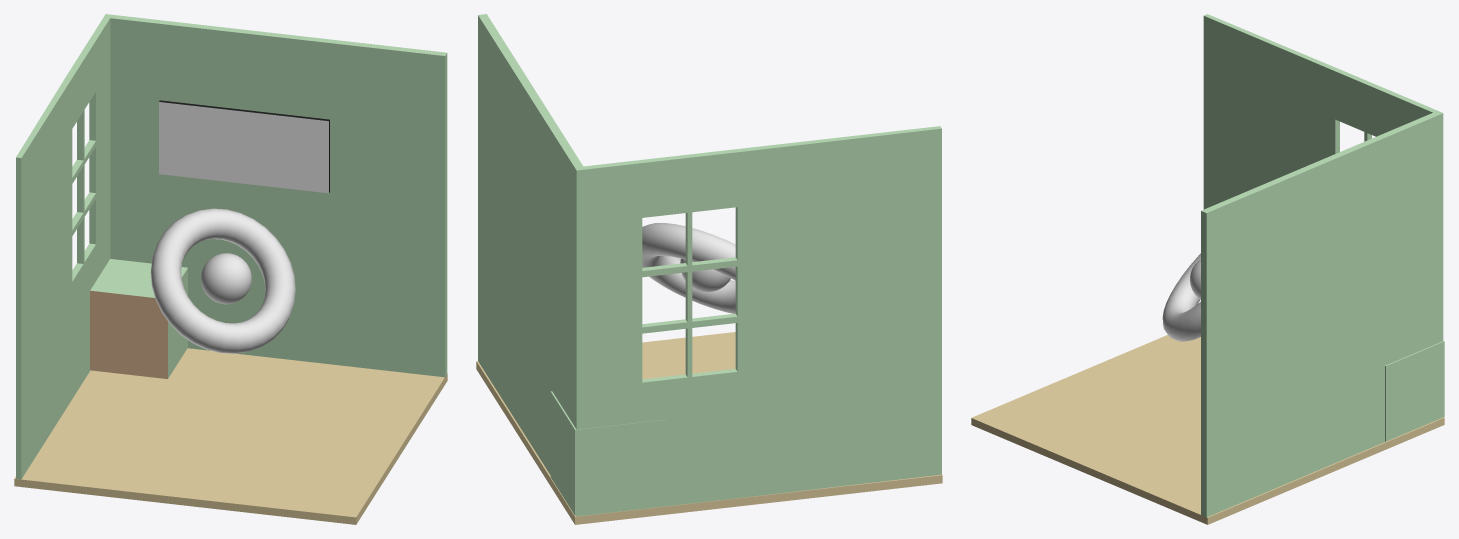
The model's file is Room.glb.
3 views of the same model, side by side, from view 1: azimuth 30°, elevation 25°; view 2: azimuth 150°, elevation 25°; view 3: azimuth 270°, elevation 25° (orthographic). The views are drawn at different scales.
Parts seen in each view (by area): view 1: Wall, Floor, Screen., Torus, IntroCube, Glass; view 2: Wall, IntroCube, Floor, Torus, Glass; view 3: Wall, Floor, IntroCube, Torus.
Boxes of the visible parts, x1=… form: Wall: x1=16, y1=14, x2=447, y2=479; Floor: x1=14, y1=348, x2=447, y2=524; Screen.: x1=159, y1=102, x2=328, y2=193; Torus: x1=150, y1=208, x2=295, y2=353; IntroCube: x1=90, y1=259, x2=187, y2=378; Glass: x1=201, y1=253, x2=251, y2=304; Wall: x1=478, y1=14, x2=941, y2=516; IntroCube: x1=550, y1=391, x2=666, y2=515; Floor: x1=476, y1=332, x2=942, y2=524; Torus: x1=642, y1=223, x2=735, y2=313; Glass: x1=680, y1=258, x2=730, y2=291; Wall: x1=1201, y1=14, x2=1443, y2=517; Floor: x1=971, y1=335, x2=1444, y2=524; IntroCube: x1=1385, y1=341, x2=1444, y2=441; Torus: x1=1162, y1=253, x2=1200, y2=341.
Size of the model in its own units: 4.15 by 3.01 by 4.15.
